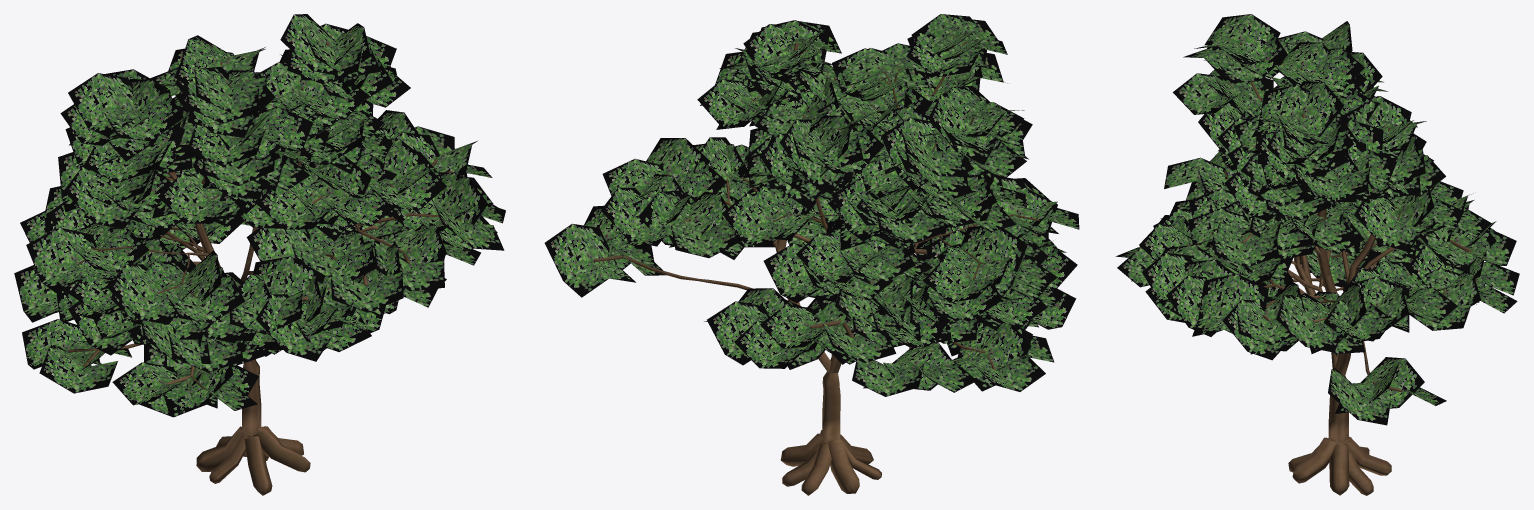
File: parampara-tree-real.glb
The picture shows the model from 3 angles, left to right: view 1: azimuth 30°, elevation 25°; view 2: azimuth 150°, elevation 25°; view 3: azimuth 270°, elevation 25°; orthographic projection. The views are drawn at different scales.
Visible parts, largest first — view 1: tree; view 2: tree; view 3: tree.
Boxes of the visible parts, bbox=[...] form: tree: bbox=[14, 14, 505, 495]; tree: bbox=[544, 14, 1079, 495]; tree: bbox=[1115, 14, 1519, 495].
Size of the model in its own units: 11.79 by 10.71 by 9.32.
Materials: 1 (1 with a texture image).
